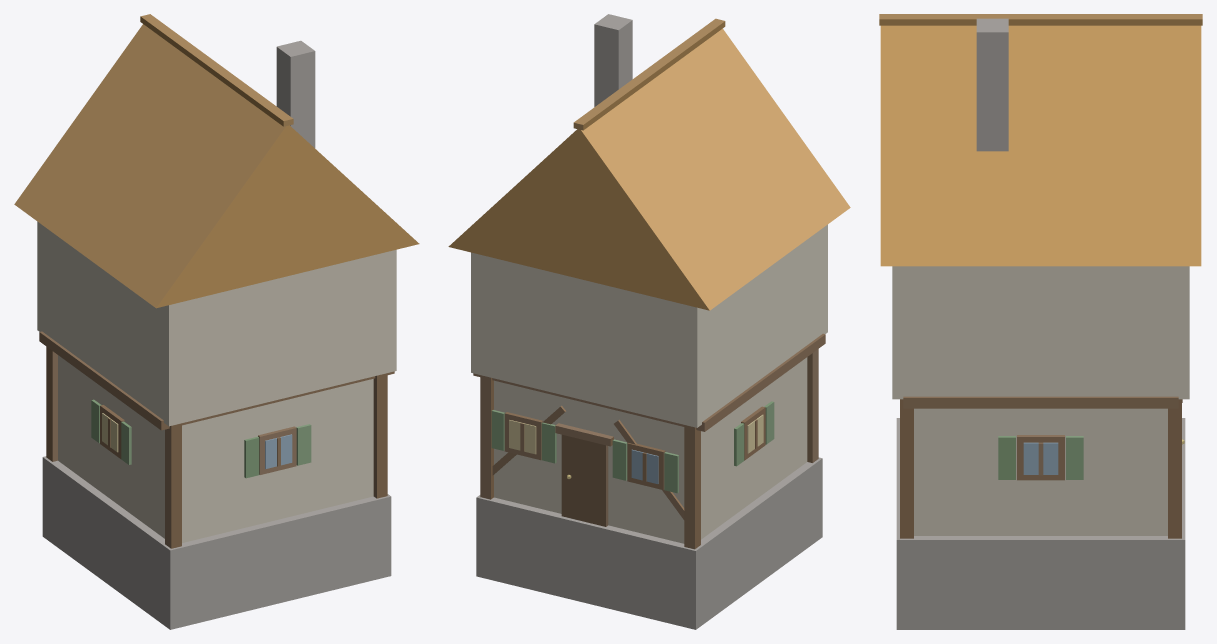
The model's file is house_tall.glb.
3 renders of one model, left to right at view 1: azimuth 30°, elevation 25°; view 2: azimuth 150°, elevation 25°; view 3: azimuth 270°, elevation 25°, orthographic. The views are drawn at different scales.
Visible parts, largest first — view 1: house_tall2; view 2: house_tall2; view 3: house_tall2.
Part boxes in pixels (left/top/right/bottom): house_tall2: left=14, top=14, right=419, bottom=629; house_tall2: left=448, top=14, right=850, bottom=629; house_tall2: left=879, top=14, right=1202, bottom=629.
Bounding box in the file's own units: 5.9 × 10.89 × 5.55.
